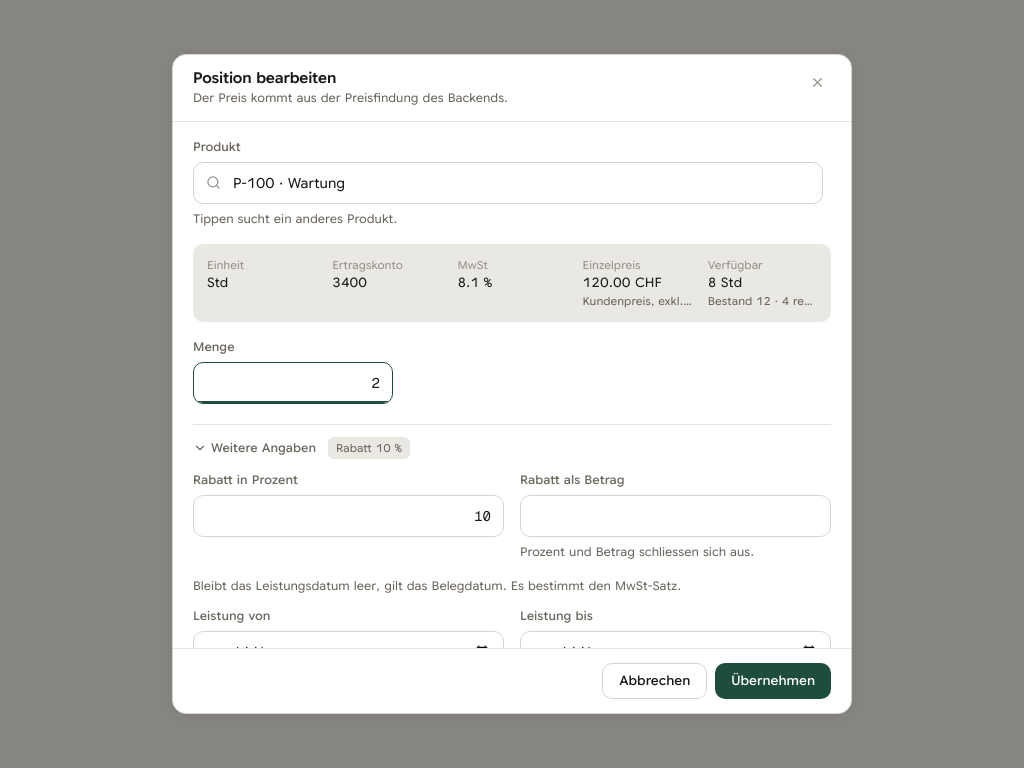
Test: ProductLineDialog › productLineDialogKeepsADiscountVisibleWhileFoldedTest
Click the button "Weitere Angaben" at (254, 448), box [193, 439, 316, 457]
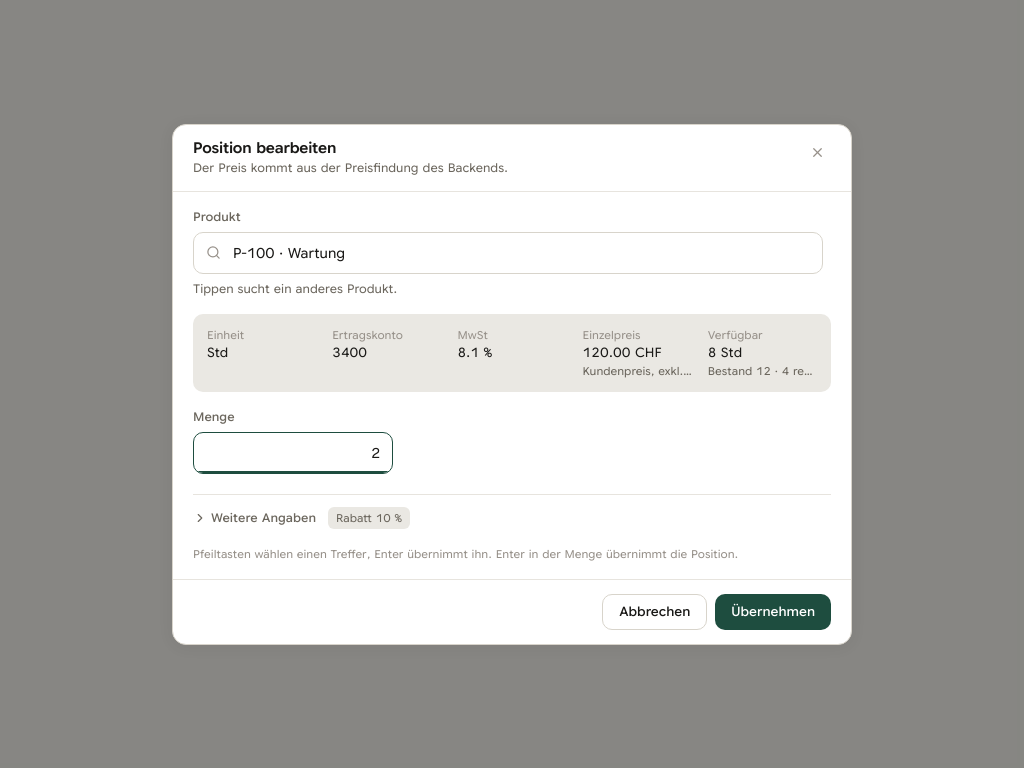
Expected: the button "Weitere Angaben" is collapsed, [193, 508, 316, 526]
